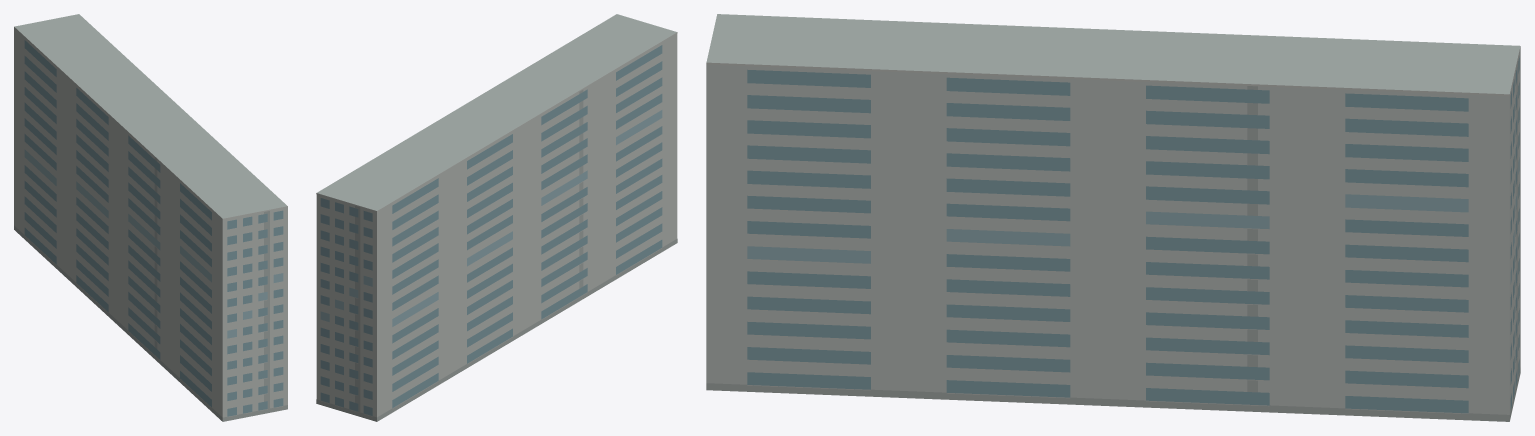
File: residential-e4f3eef0-576c-4796-bfc3-25542b70e26f.glb
The picture shows the model from 3 angles, left to right: view 1: azimuth 30°, elevation 25°; view 2: azimuth 150°, elevation 25°; view 3: azimuth 270°, elevation 25°; orthographic projection. The views are drawn at different scales.
Visible parts, largest first — view 1: residential-e4f3eef0-576c-4796-bfc3-25542b70e26f.tmp; view 2: residential-e4f3eef0-576c-4796-bfc3-25542b70e26f.tmp; view 3: residential-e4f3eef0-576c-4796-bfc3-25542b70e26f.tmp.
Part boxes in pixels (x1,y1,x2,y2): residential-e4f3eef0-576c-4796-bfc3-25542b70e26f.tmp: (14,14,287,421); residential-e4f3eef0-576c-4796-bfc3-25542b70e26f.tmp: (316,14,677,421); residential-e4f3eef0-576c-4796-bfc3-25542b70e26f.tmp: (706,14,1520,421).
Bounding box in the file's own units: 21.58 × 41 × 92.35.
